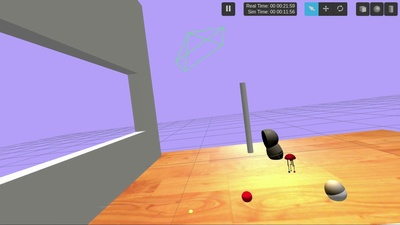mira_robot: (325, 180, 347, 201)
